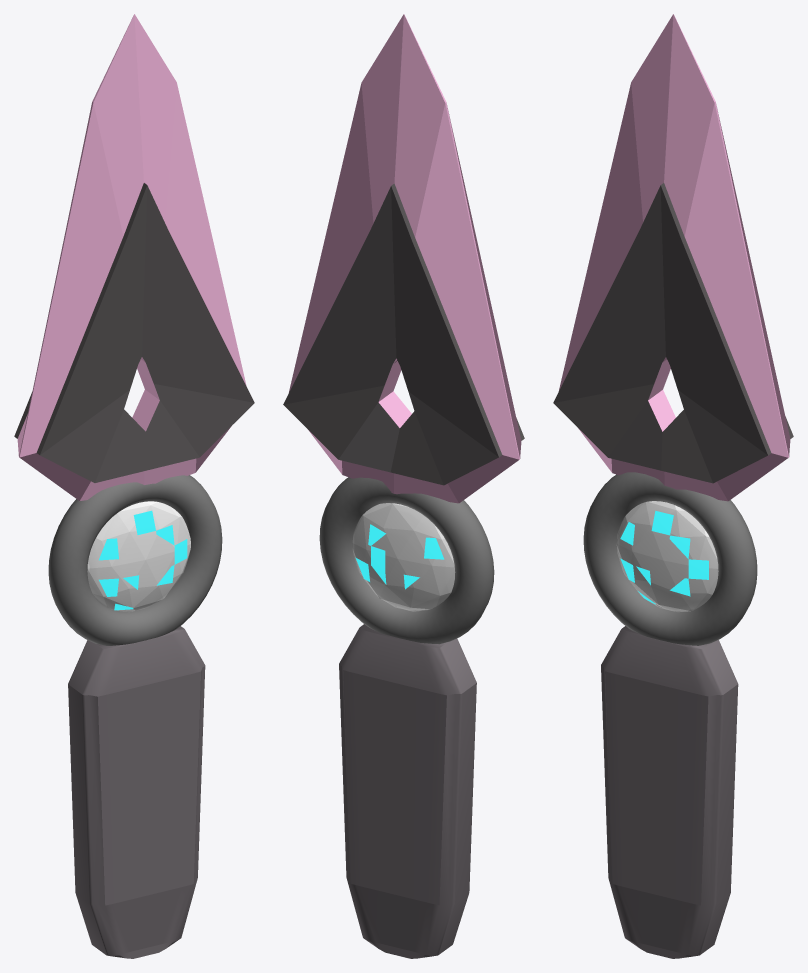
The model's file is gulim2.glb.
The picture shows the model from 3 angles, left to right: view 1: azimuth 30°, elevation 25°; view 2: azimuth 150°, elevation 25°; view 3: azimuth 330°, elevation 25°; orthographic projection.
Visible parts, largest first — view 1: Cube.002, Cube, Torus, Mball.001, Icosphere; view 2: Cube.002, Cube, Torus, Mball.001, Icosphere; view 3: Cube.002, Cube, Torus, Mball.001, Icosphere.
Boxes of the visible parts, x1,y1,x2,y2 form: Cube.002: (14, 14, 254, 500); Cube: (68, 626, 205, 958); Torus: (48, 475, 222, 645); Mball.001: (88, 501, 189, 611); Icosphere: (87, 501, 190, 610); Cube.002: (283, 14, 524, 503); Cube: (339, 624, 476, 958); Torus: (319, 477, 494, 644); Mball.001: (353, 503, 454, 611); Icosphere: (352, 503, 455, 610); Cube.002: (553, 14, 793, 501); Cube: (601, 626, 738, 958); Torus: (583, 472, 757, 645); Mball.001: (617, 501, 717, 611); Icosphere: (616, 501, 718, 611).
Bounding box in the file's own units: 1.3 × 5.01 × 0.2818.
